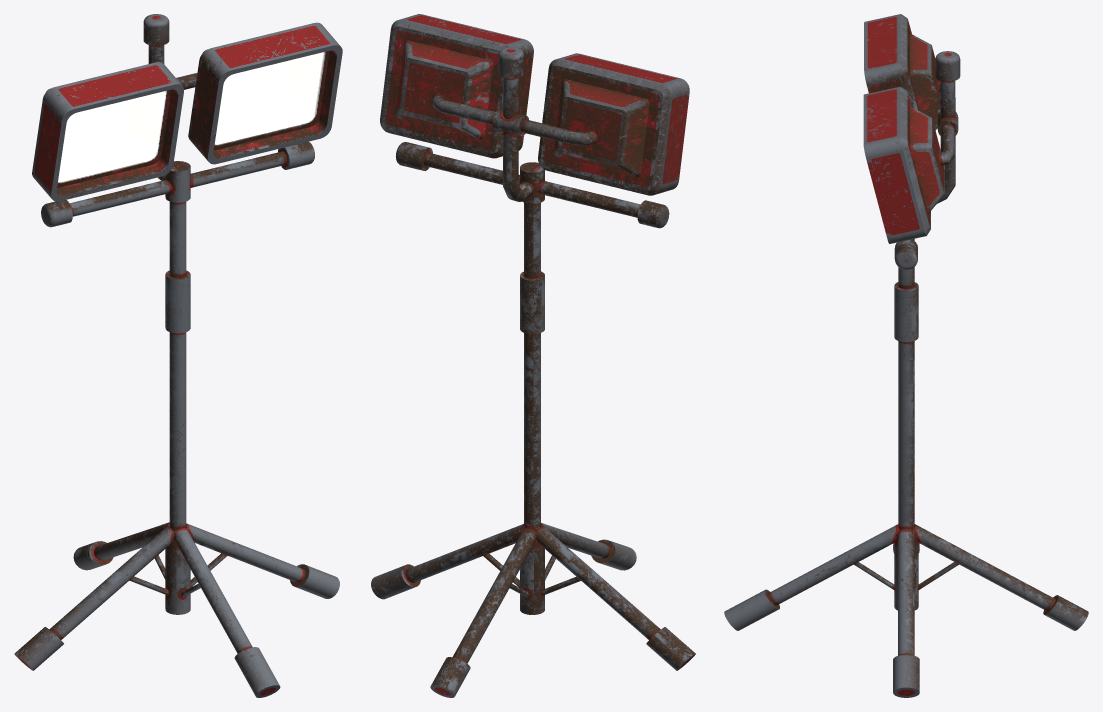
Rendered from industrial_light.glb.
3 renders of one model, left to right at view 1: azimuth 30°, elevation 25°; view 2: azimuth 150°, elevation 25°; view 3: azimuth 270°, elevation 25°, orthographic. The views are drawn at different scales.
Visible parts, largest first — view 1: pCylinder253; view 2: pCylinder253; view 3: pCylinder253.
Boxes of the visible parts, x1,y1,x2,y2 form: pCylinder253: (14,14,342,697); pCylinder253: (371,14,695,697); pCylinder253: (724,14,1088,697).
Size of the model in its own units: 0.1092 by 0.1957 by 0.1124.
Materials: 1 (1 with a texture image).
